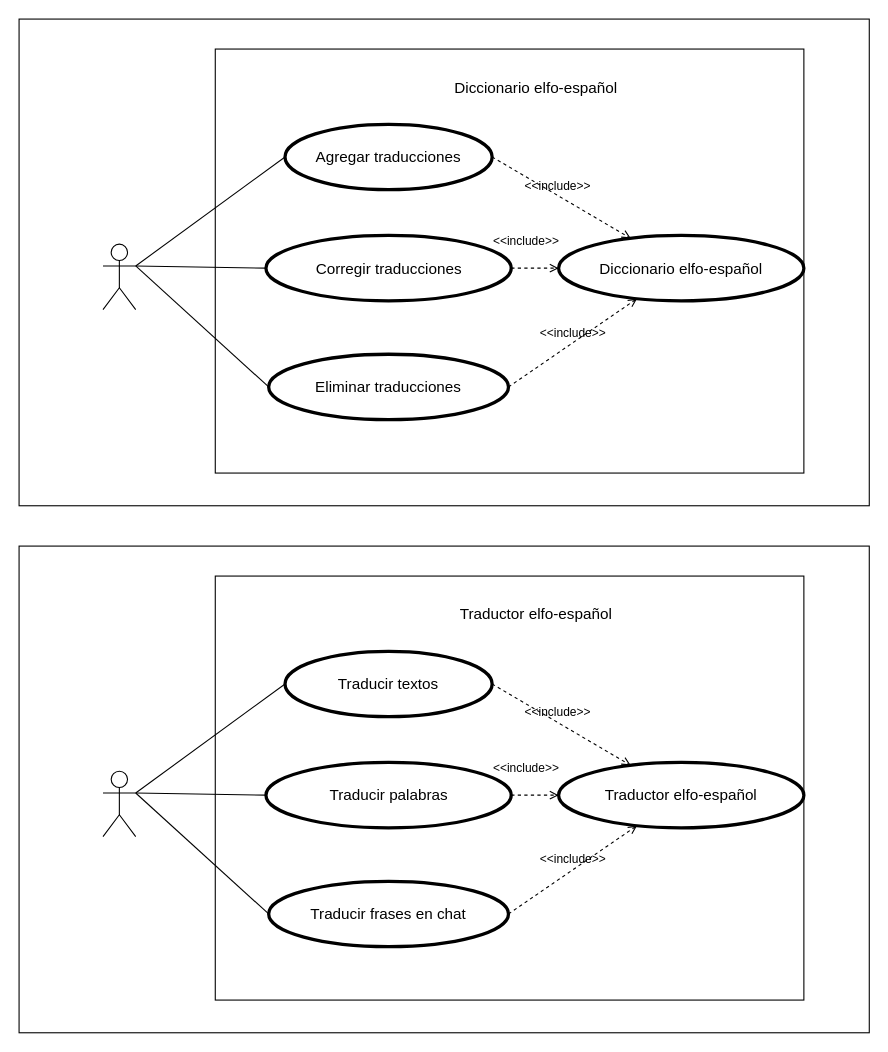
This 888x1052 diagram has some shape labels left out. The centre of each missing label's shape, as x and y in pixels:
Administrador: (x=119, y=276)
User: (x=119, y=803)
